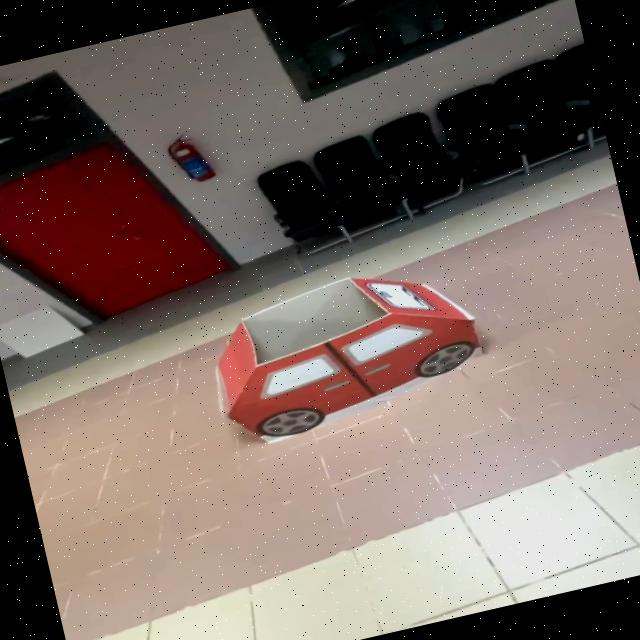red_car: (157, 230, 530, 503)
